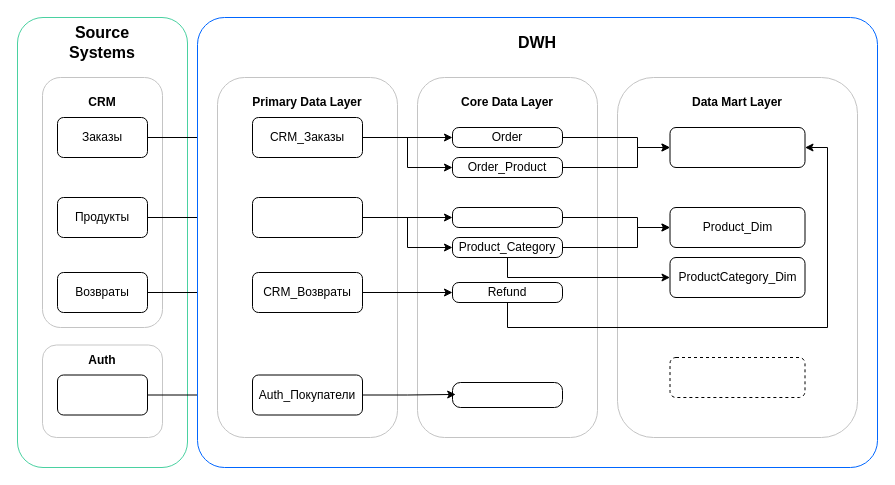
Some shapes in this 895 by 485 pixel diagram are drawn without their labels. The shapes that lost their labels are listed below. From the top down, each one's centre as x and y in pixels, then its label:
At pixel 737 147: "Sales_Fact".
At pixel 307 217: "CRM_Продукты".
At pixel 507 217: "Product".
At pixel 102 394: "Покупатели".
At pixel 507 395: "Customer".
At pixel 737 377: "Month_Dim".
